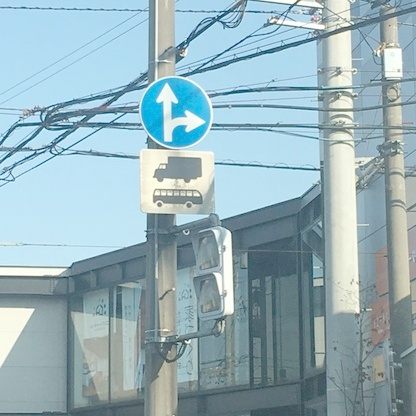Direction_sign: (138, 72, 219, 154)
